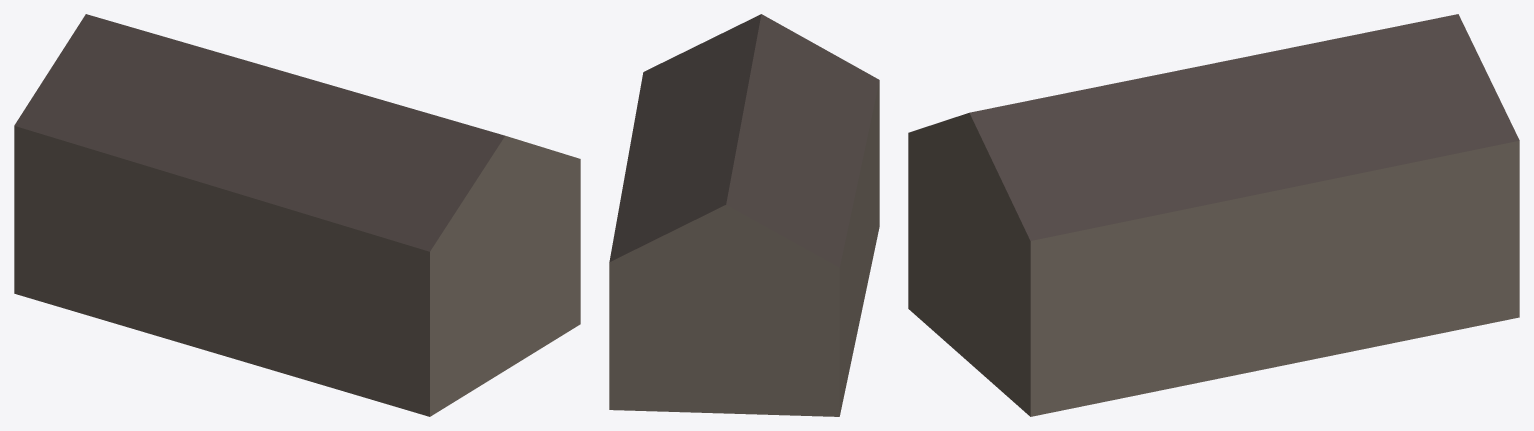
The picture shows the model from 3 angles, left to right: view 1: azimuth 30°, elevation 25°; view 2: azimuth 150°, elevation 25°; view 3: azimuth 270°, elevation 25°; orthographic projection. The views are drawn at different scales.
Parts seen in each view (by area): view 1: HP-w1197053249; view 2: HP-w1197053249; view 3: HP-w1197053249.
Boxes of the visible parts, x1,y1,x2,y2 form: HP-w1197053249: (14, 14, 580, 416); HP-w1197053249: (609, 14, 879, 416); HP-w1197053249: (908, 14, 1519, 416).
Bounding box in the file's own units: 14.97 × 8.53 × 18.9.
